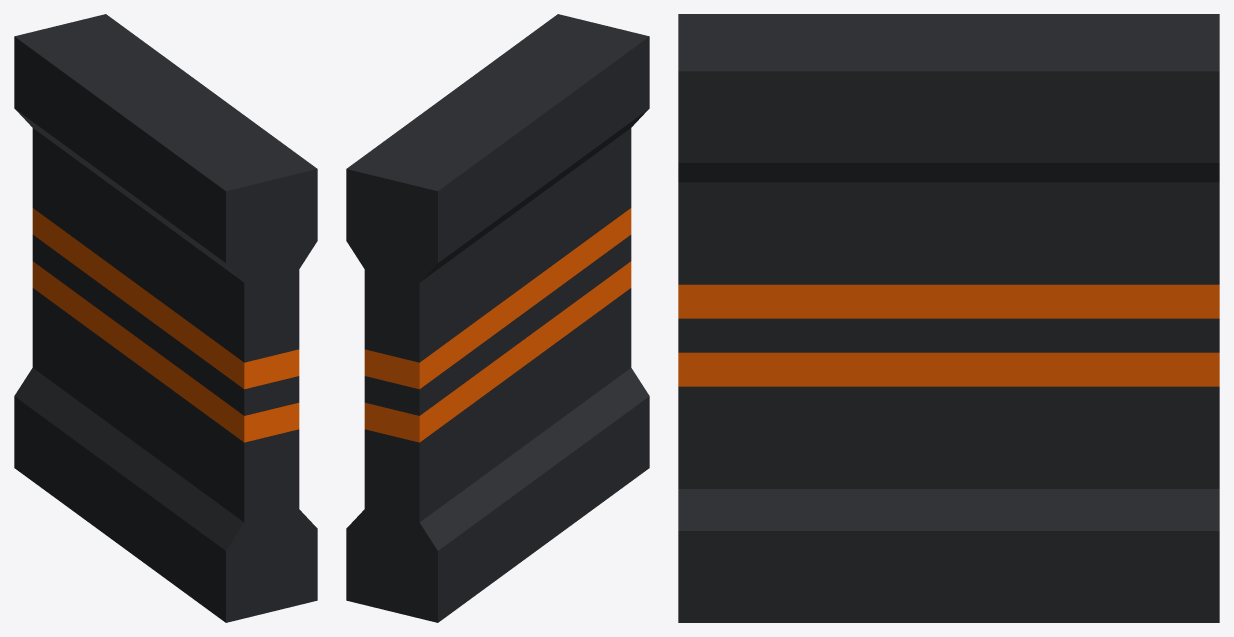
Rendered from Wall_2x2.fbx.
3 views of the same model, side by side, from view 1: azimuth 30°, elevation 25°; view 2: azimuth 150°, elevation 25°; view 3: azimuth 270°, elevation 25° (orthographic). The views are drawn at different scales.
Visible parts, largest first — view 1: Wall_2x2; view 2: Wall_2x2; view 3: Wall_2x2.
Boxes of the visible parts, x1,y1,x2,y2 form: Wall_2x2: [14, 14, 317, 622]; Wall_2x2: [346, 14, 649, 622]; Wall_2x2: [678, 14, 1219, 622].
Size of the model in its own units: 50 by 225 by 200.
